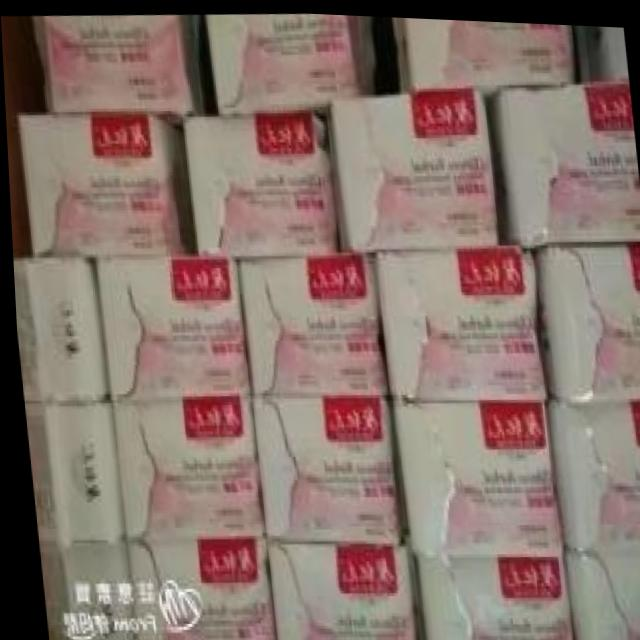box: (324, 84, 495, 249), (373, 241, 544, 397), (486, 75, 640, 246), (387, 397, 556, 552), (17, 112, 192, 256), (181, 107, 336, 257), (246, 394, 400, 543), (93, 251, 248, 399), (106, 394, 261, 539), (234, 249, 382, 392), (45, 13, 205, 127), (530, 238, 640, 397), (204, 11, 371, 115), (120, 536, 271, 640), (392, 14, 573, 98), (264, 542, 411, 640), (10, 256, 107, 404), (410, 551, 569, 640), (544, 397, 640, 543), (20, 402, 119, 538), (33, 539, 129, 640), (557, 540, 640, 640), (585, 20, 628, 76)
